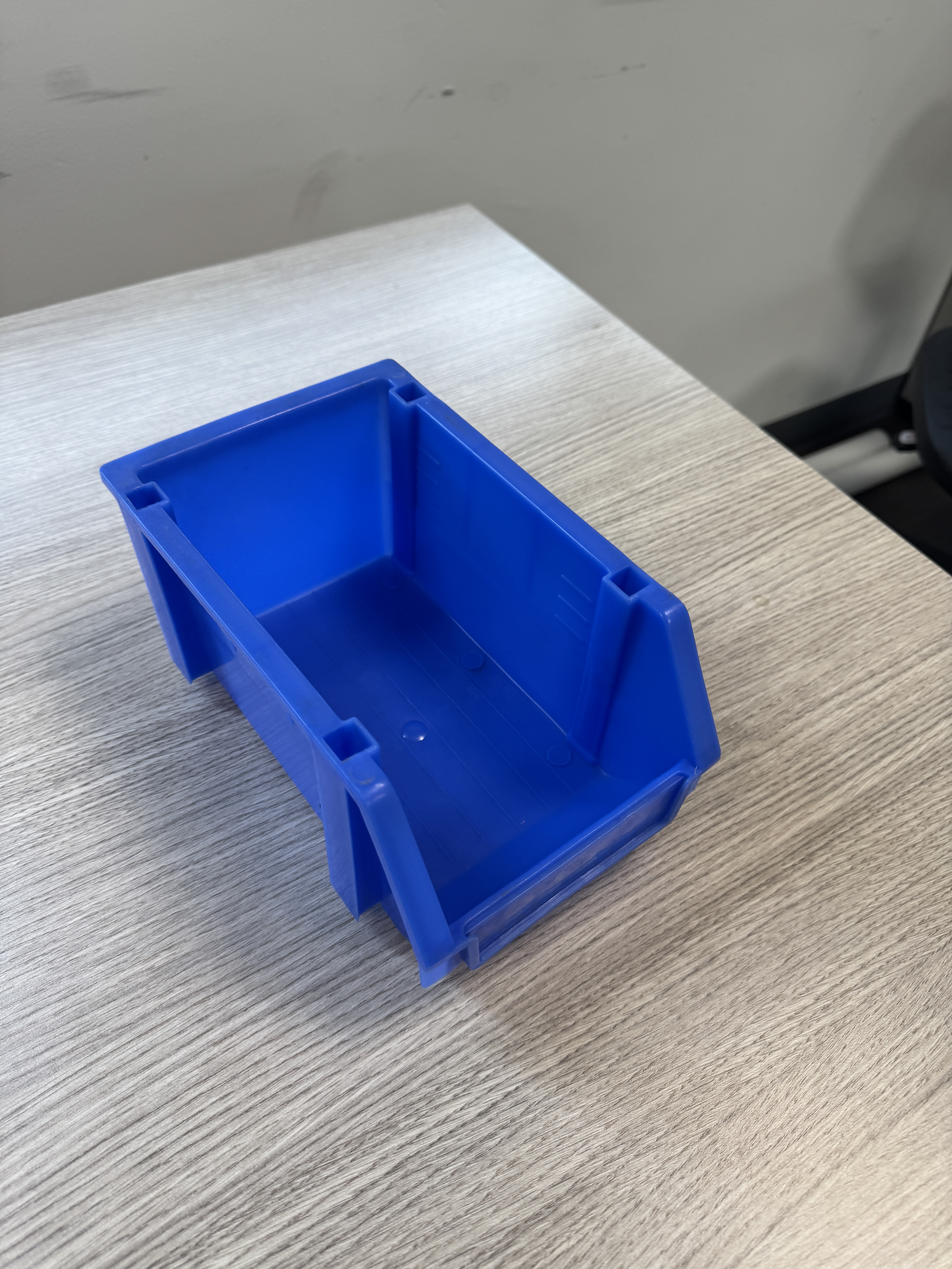Bin Boundary: (133, 276, 740, 938)
